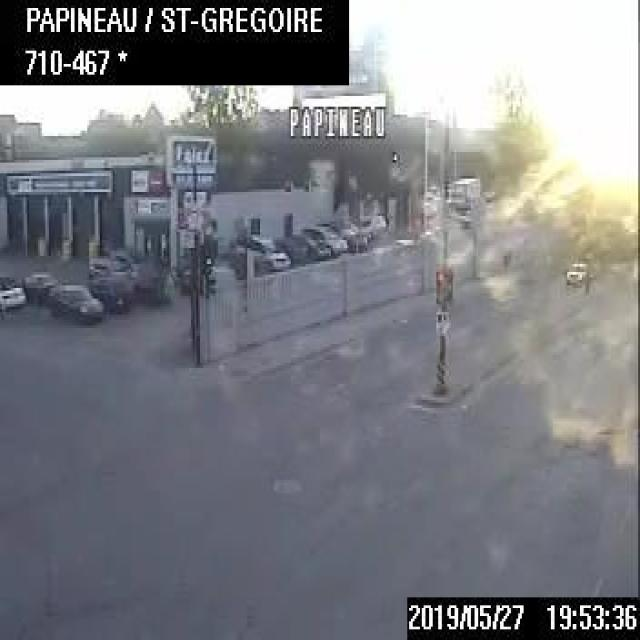vehicle: (46, 281, 104, 326), (240, 232, 291, 272), (88, 276, 132, 311), (19, 272, 56, 304), (314, 222, 347, 256), (296, 227, 329, 260), (86, 252, 128, 277), (0, 274, 25, 312), (564, 253, 592, 286)
